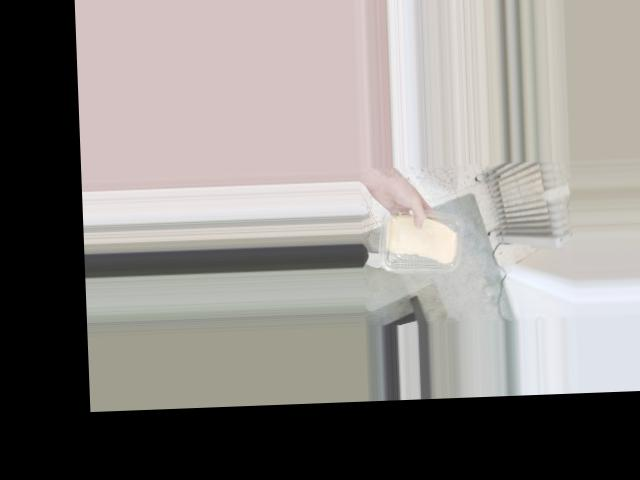cheese: (378, 206, 467, 273)
